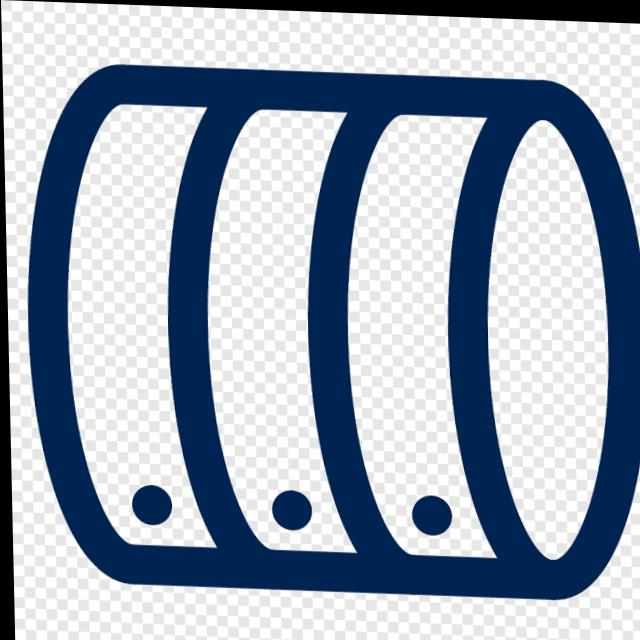Database: (0, 28, 640, 640)
